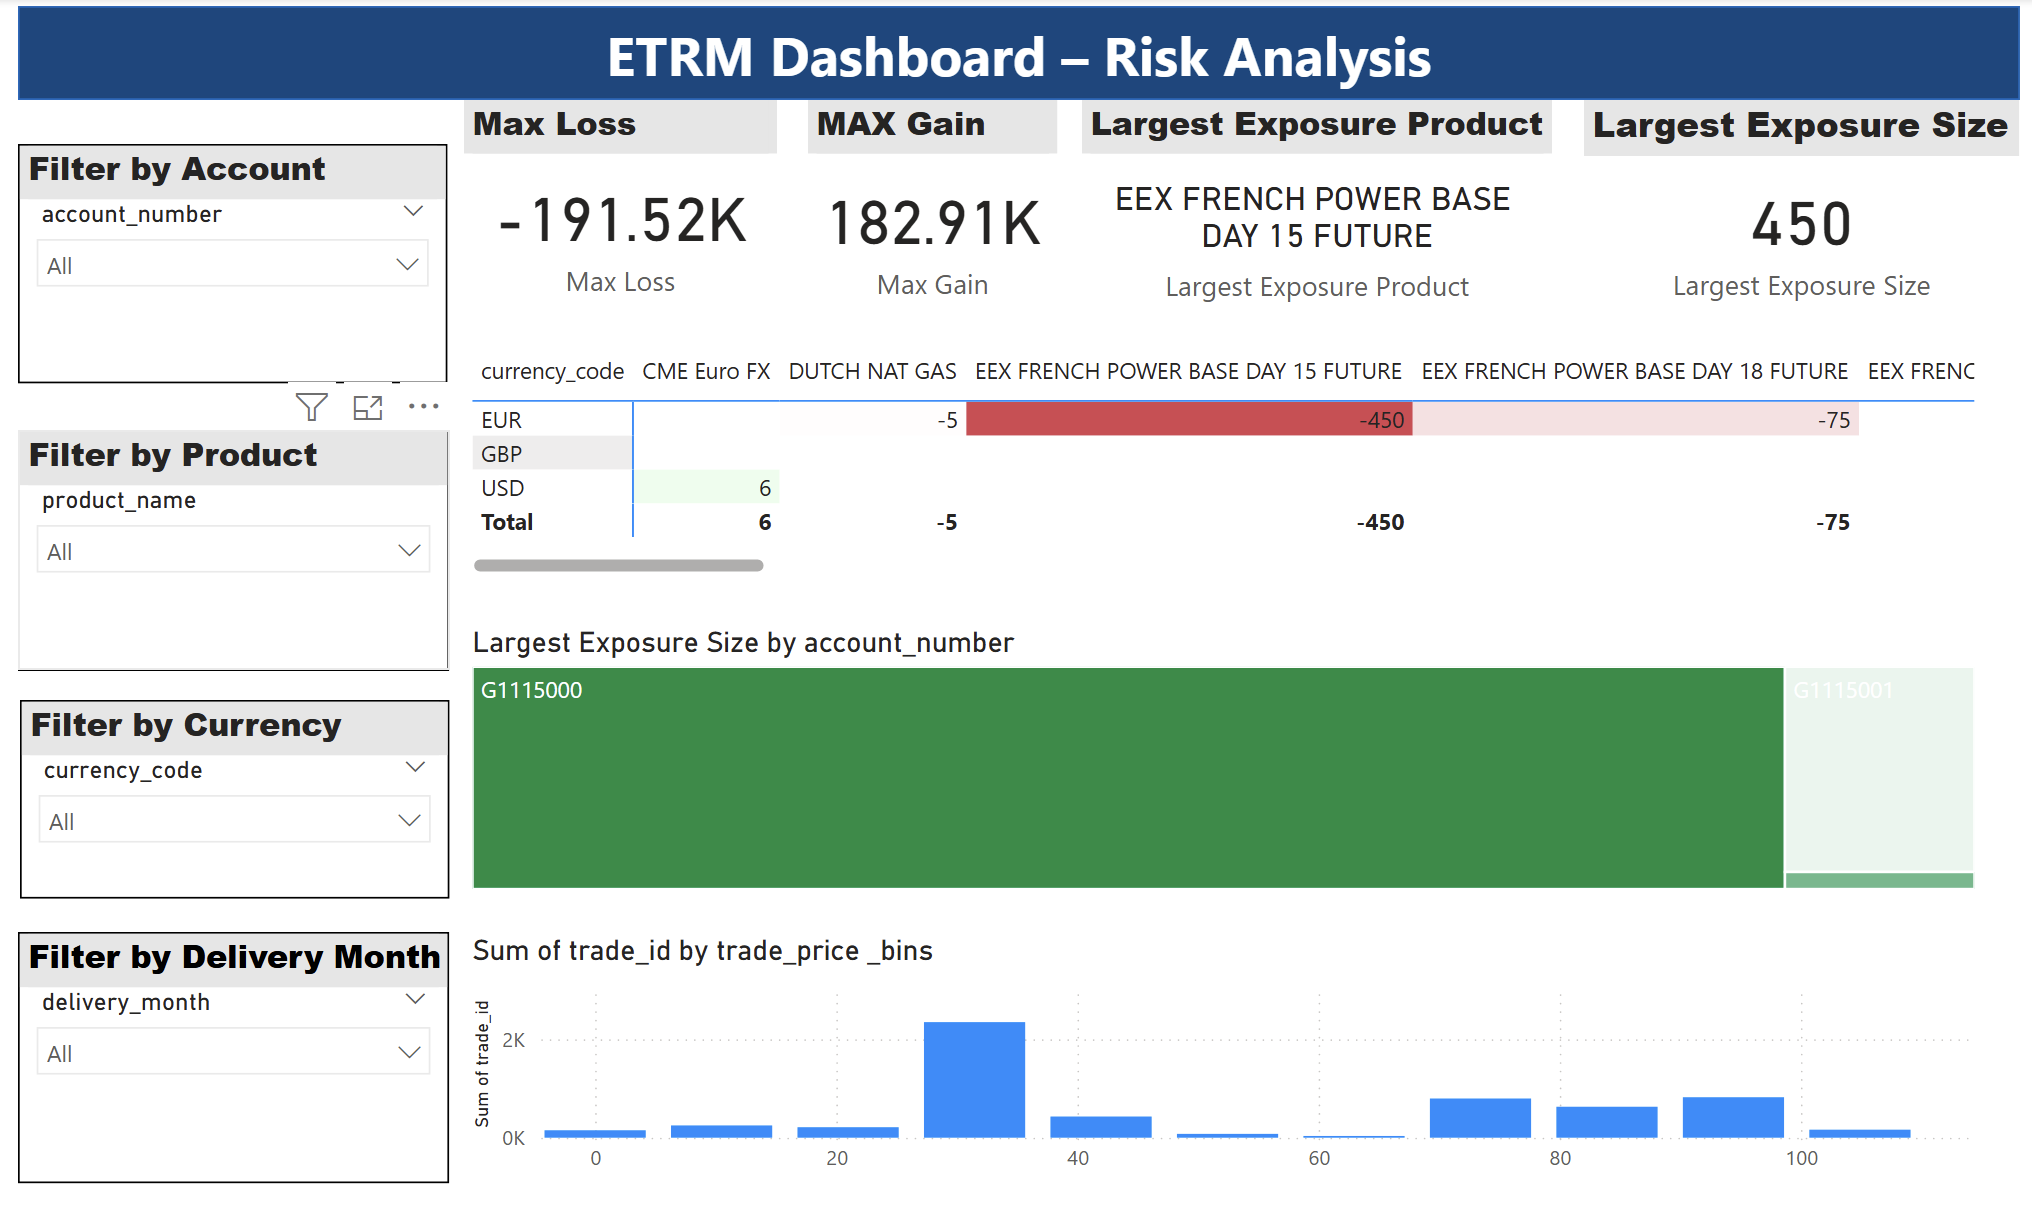

This screenshot's page, from the dashboard's own definition file:
{"tool":"powerbi","page":{"name":"Risk","canvas":[1280,720],"ordinal":2},"visuals":[{"type":"slicer","title":"Filter by Account","fields":{"Values":["v_positions.account_number"]},"box":[13.3,85.5,253,141],"z":0},{"type":"slicer","title":"Filter by Product","fields":{"Values":["v_positions.product_name"]},"box":[13.3,254.2,254.2,142.2],"z":1000},{"type":"slicer","title":"Filter by Currency","fields":{"Values":["v_positions.currency_code"]},"box":[14.5,413.3,253,116.9],"z":2000},{"type":"slicer","title":"Filter by Delivery Month","fields":{"Values":["v_positions.delivery_month"]},"box":[13.3,550.6,254.2,148.2],"z":3000},{"type":"card","title":"Max Loss","fields":{"Values":["v_positions.Max Loss"]},"box":[275.9,60.2,184.3,128.9],"z":3002},{"type":"card","title":"MAX Gain","fields":{"Values":["v_positions.Max Gain"]},"box":[478.3,60.2,147,132.5],"z":3003},{"type":"card","title":"Largest Exposure Product","fields":{"Values":["v_positions.Largest Exposure Product"]},"box":[639.8,60.2,277.1,132.5],"z":3004},{"type":"card","title":"Largest Exposure Size","fields":{"Values":["v_positions.Largest Exposure Size"]},"box":[936.1,60.2,256.6,132.5],"z":3005},{"type":"pivotTable","fields":{"Rows":["v_positions.currency_code"],"Columns":["v_positions.product_name"],"Values":["Sum(v_positions.position_qty)"]},"box":[275.9,203.6,895.2,139.8],"z":3006},{"type":"treemap","fields":{"Group":["v_positions.account_number"],"Values":["v_positions.Largest Exposure Size"]},"box":[276,370,895,160],"z":3007},{"type":"clusteredColumnChart","fields":{"Category":["trades.trade_price _bins"],"Y":["Sum(trades.trade_id)"]},"box":[276,551,895,150],"z":3008},{"type":"shape","box":[13.3,4.8,1179.5,55.4],"z":3010}]}

Visuals, with their boxes on the page's 1280x720 design canvas (x1, y1, x2, y2). These are canvas units, not pixel positions in the 2032x1218 screenshot, which may show the page scaled, cropped or inside an application window:
"Filter by Account" slicer: crop(13, 86, 266, 226)
"Filter by Product" slicer: crop(13, 254, 268, 396)
"Filter by Currency" slicer: crop(14, 413, 268, 530)
"Filter by Delivery Month" slicer: crop(13, 551, 268, 699)
"Max Loss" card: crop(276, 60, 460, 189)
"MAX Gain" card: crop(478, 60, 625, 193)
"Largest Exposure Product" card: crop(640, 60, 917, 193)
"Largest Exposure Size" card: crop(936, 60, 1193, 193)
pivotTable - v_positions.currency_code x v_positions.product_name: crop(276, 204, 1171, 343)
treemap - v_positions.account_number x v_positions.Largest Exposure Size: crop(276, 370, 1171, 530)
clusteredColumnChart - trades.trade_price _bins x Sum(trades.trade_id): crop(276, 551, 1171, 701)
shape: crop(13, 5, 1193, 60)
